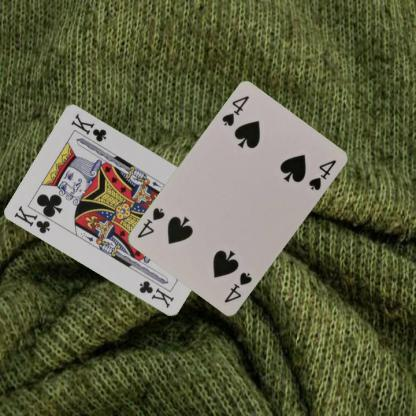4s: (221, 270, 254, 304), (219, 94, 251, 128)
Kc: (12, 203, 52, 235)
